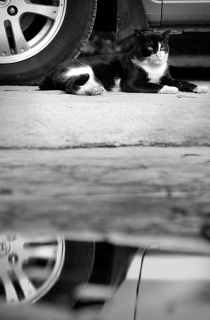Cat: (36, 28, 208, 94)
